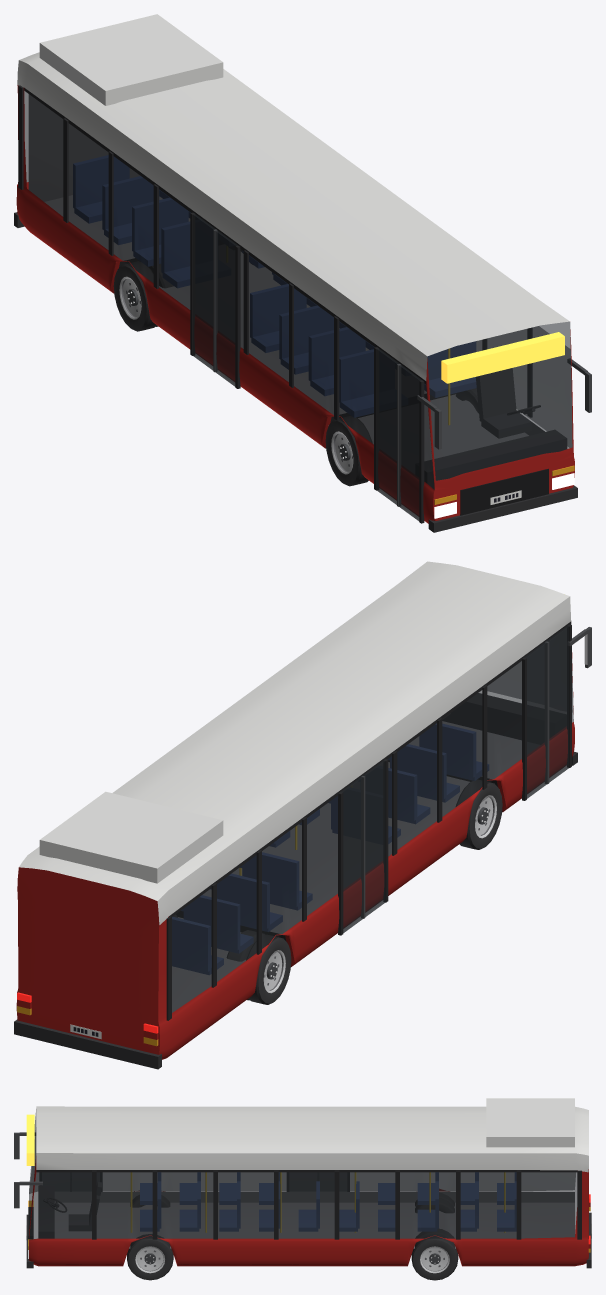
File: bus.glb
3 views of the same model, one above another, from view 1: azimuth 30°, elevation 25°; view 2: azimuth 150°, elevation 25°; view 3: azimuth 270°, elevation 25° (orthographic). The views are drawn at different scales.
Parts seen in each view (by area): view 1: bus_body, Wheel_RR, Wheel_FR; view 2: bus_body, Wheel_RR, Wheel_FR; view 3: bus_body, Wheel_RL, Wheel_FL, Wheel_RR.
Boxes of the visible parts, x1,y1,x2,y2 form: bus_body: (14,14,591,532); Wheel_RR: (113,261,173,331); Wheel_FR: (325,416,372,486); bus_body: (14,561,591,1069); Wheel_RR: (226,930,291,1004); Wheel_FR: (455,779,502,849); bus_body: (14,1098,591,1268); Wheel_RL: (411,1228,458,1280); Wheel_FL: (127,1234,173,1280); Wheel_RR: (415,1192,454,1213).
Bounding box in the file's own units: 0.1275 × 0.165 × 0.6192.
8 materials, 1 textured.
